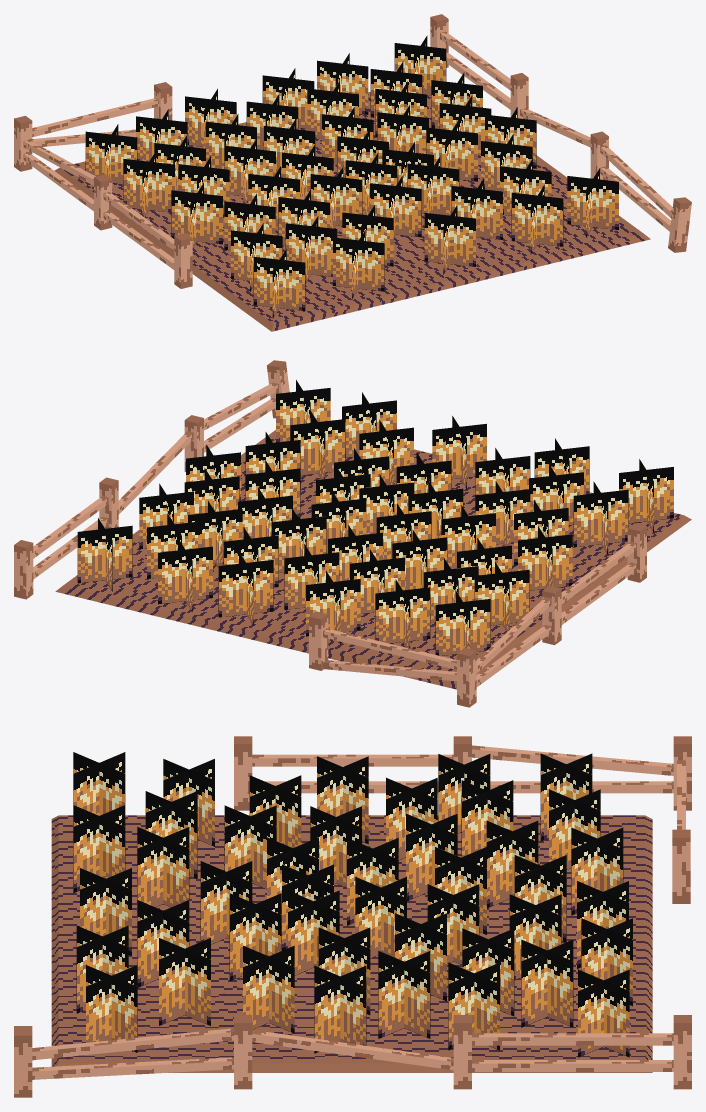
Rendered from farmland.gltf.
3 views of the same model, one above another, from view 1: azimuth 30°, elevation 25°; view 2: azimuth 150°, elevation 25°; view 3: azimuth 270°, elevation 25° (orthographic). The views are drawn at different scales.
Visible parts, largest first — view 1: grain, farmland, fence_corner, fence_straight; view 2: grain, farmland, fence_corner, fence_straight; view 3: grain, farmland, fence_straight, fence_corner.
Part boxes in pixels (x1,y1,x2,y2): grain: [85, 35, 618, 318]; farmland: [54, 92, 650, 331]; fence_corner: [14, 82, 192, 288]; fence_straight: [430, 14, 691, 252]; grain: [77, 380, 673, 655]; farmland: [55, 430, 691, 689]; fence_corner: [309, 523, 646, 707]; fence_straight: [14, 360, 289, 599]; grain: [73, 752, 632, 1057]; farmland: [51, 815, 652, 1072]; fence_straight: [14, 1015, 691, 1097]; fence_corner: [234, 736, 691, 903].
Bounding box in the file's own units: 9.31 × 1.26 × 9.25.
Materials: 1 (1 with a texture image).
